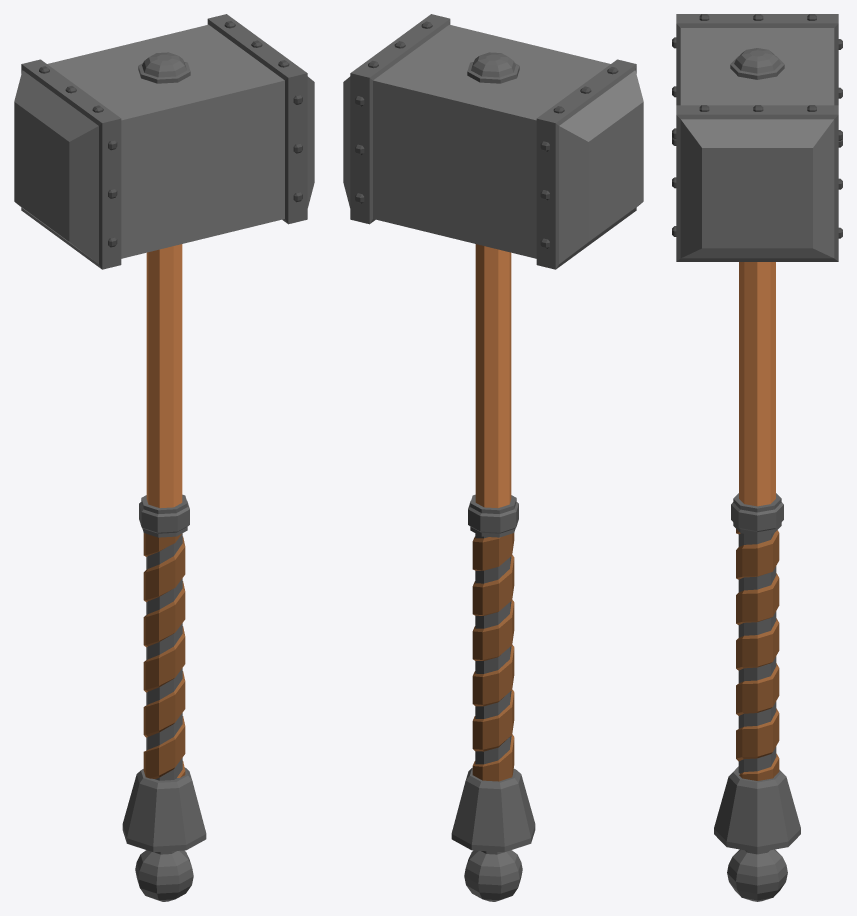
Rendered from hammer_3.fbx.
The picture shows the model from 3 angles, left to right: view 1: azimuth 30°, elevation 25°; view 2: azimuth 150°, elevation 25°; view 3: azimuth 270°, elevation 25°; orthographic projection.
Visible parts, largest first — view 1: Hammer; view 2: Hammer; view 3: Hammer.
Part boxes in pixels (x1,y1,x2,y2): Hammer: (14, 14, 314, 901); Hammer: (343, 14, 643, 901); Hammer: (672, 14, 842, 901).
Size of the model in its own units: 49.68 by 163 by 29.81.
